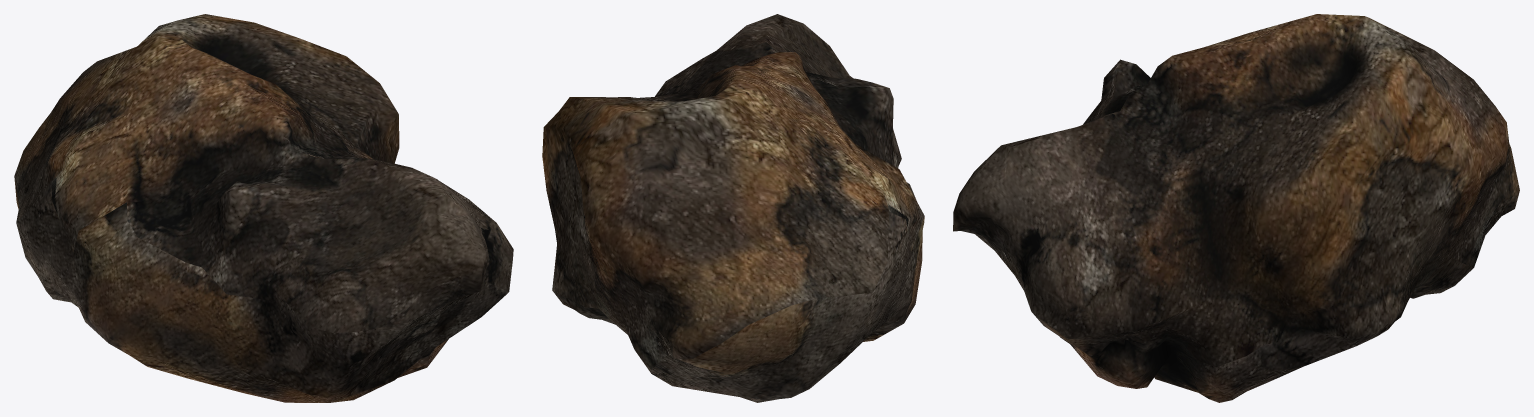
The model's file is rock_1x1.dae.
3 views of the same model, side by side, from view 1: azimuth 30°, elevation 25°; view 2: azimuth 150°, elevation 25°; view 3: azimuth 270°, elevation 25° (orthographic). The views are drawn at different scales.
Visible parts, largest first — view 1: rock_1x1; view 2: rock_1x1; view 3: rock_1x1.
Boxes of the visible parts, bbox=[...] form: rock_1x1: bbox=[14, 14, 513, 402]; rock_1x1: bbox=[542, 14, 924, 402]; rock_1x1: bbox=[953, 14, 1519, 402].
Size of the model in its own units: 2.24 by 2.89 by 1.82.
1 material, 1 textured.
